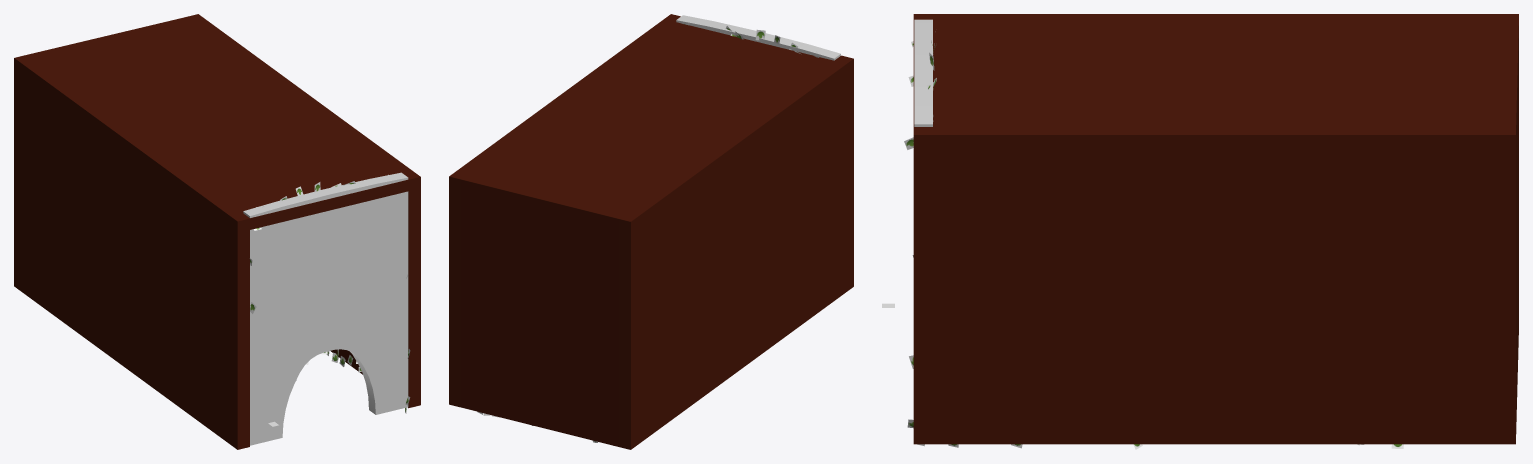
The model's file is MazeEntrance.fbx.
3 renders of one model, left to right at view 1: azimuth 30°, elevation 25°; view 2: azimuth 150°, elevation 25°; view 3: azimuth 270°, elevation 25°, orthographic. The views are drawn at different scales.
Parts seen in each view (by area): view 1: Object015, Object016; view 2: Object015; view 3: Object015.
Part boxes in pixels (box(x1,y1,x2,y2)): Object015: box(14, 14, 420, 449); Object016: box(249, 174, 410, 413); Object015: box(449, 14, 853, 449); Object015: box(913, 14, 1518, 444).
Bounding box in the file's own units: 222 × 290 × 493.
